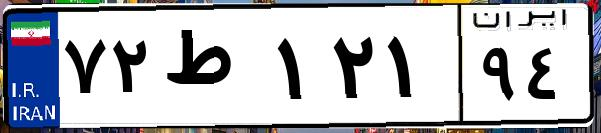1: (270, 28, 330, 110), (385, 28, 445, 110)
2: (330, 28, 385, 110), (110, 28, 158, 98)
4: (525, 38, 570, 115)
7: (57, 26, 110, 100)
9: (475, 38, 525, 113)
ط: (158, 20, 270, 120)
